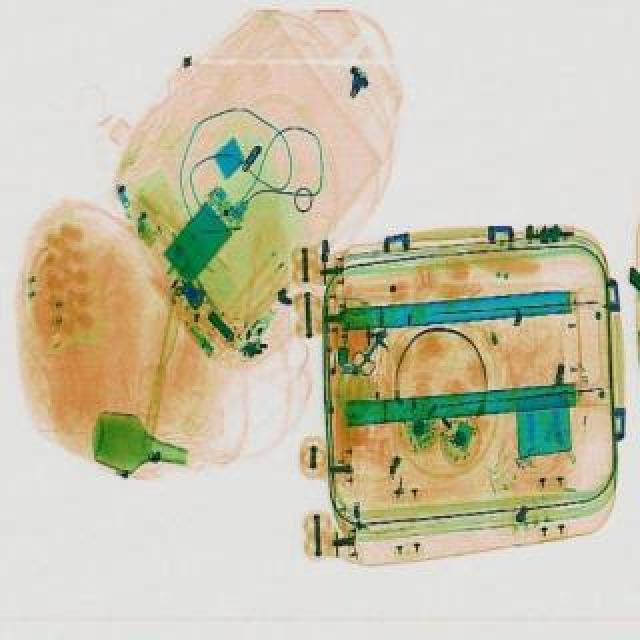pliers: (348, 324, 400, 380)
